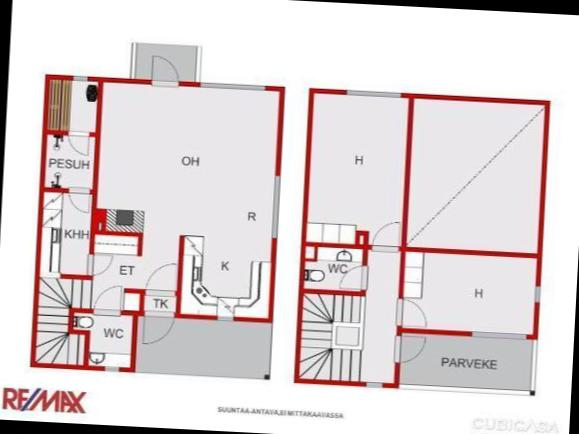door: (142, 260, 178, 298), (140, 310, 173, 348), (390, 333, 428, 365), (368, 218, 401, 254), (394, 297, 430, 330), (147, 53, 180, 88), (90, 282, 123, 316), (336, 262, 368, 292), (85, 252, 114, 276), (65, 131, 89, 157), (66, 187, 89, 213)
window: (195, 79, 269, 93), (268, 169, 282, 243), (466, 328, 532, 342), (342, 88, 402, 100), (360, 380, 387, 389), (99, 363, 121, 374), (532, 281, 542, 305), (212, 314, 236, 323), (68, 72, 88, 82)
